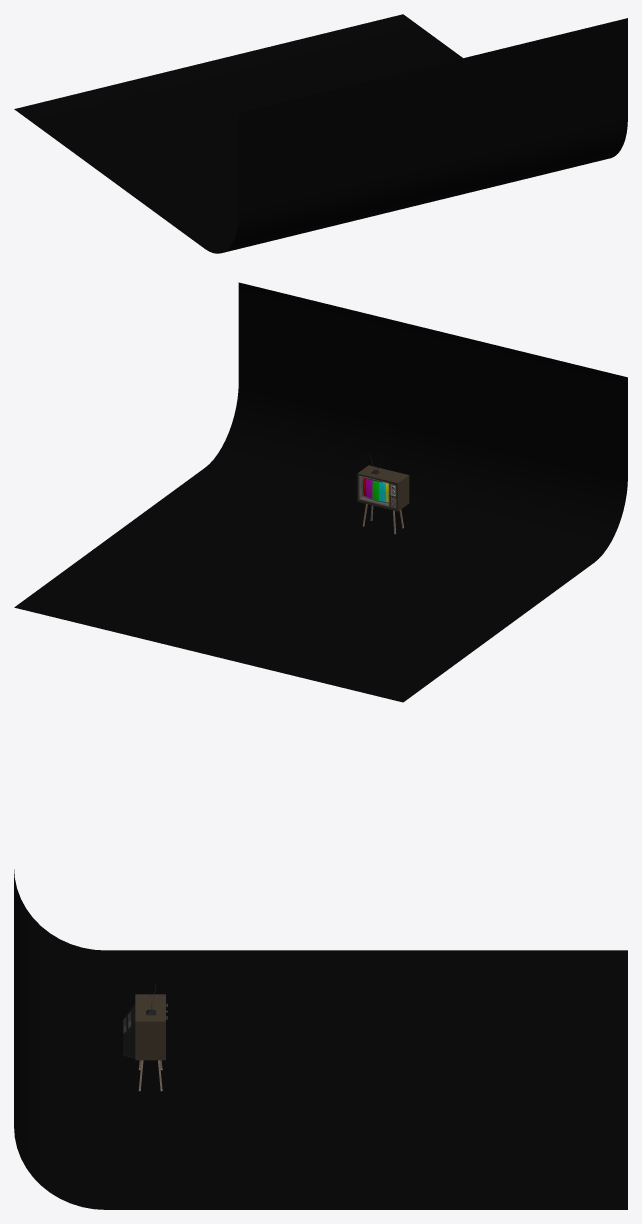
Rendered from CRT TV.glb.
The picture shows the model from 3 angles, top to bottom: view 1: azimuth 30°, elevation 25°; view 2: azimuth 150°, elevation 25°; view 3: azimuth 270°, elevation 25°; orthographic projection. The views are drawn at different scales.
Parts seen in each view (by area): view 1: Ground; view 2: Ground, Front; view 3: Ground, Front.
Part boxes in pixels (<box>): Ground: <box>14,14,627,253</box>; Ground: <box>14,282,627,702</box>; Front: <box>357,465,409,511</box>; Ground: <box>14,869,627,1209</box>; Front: <box>135,994,165,1060</box>.
Size of the model in its own units: 57.56 by 22.71 by 57.56.
Materials: 3 (2 with a texture image).
